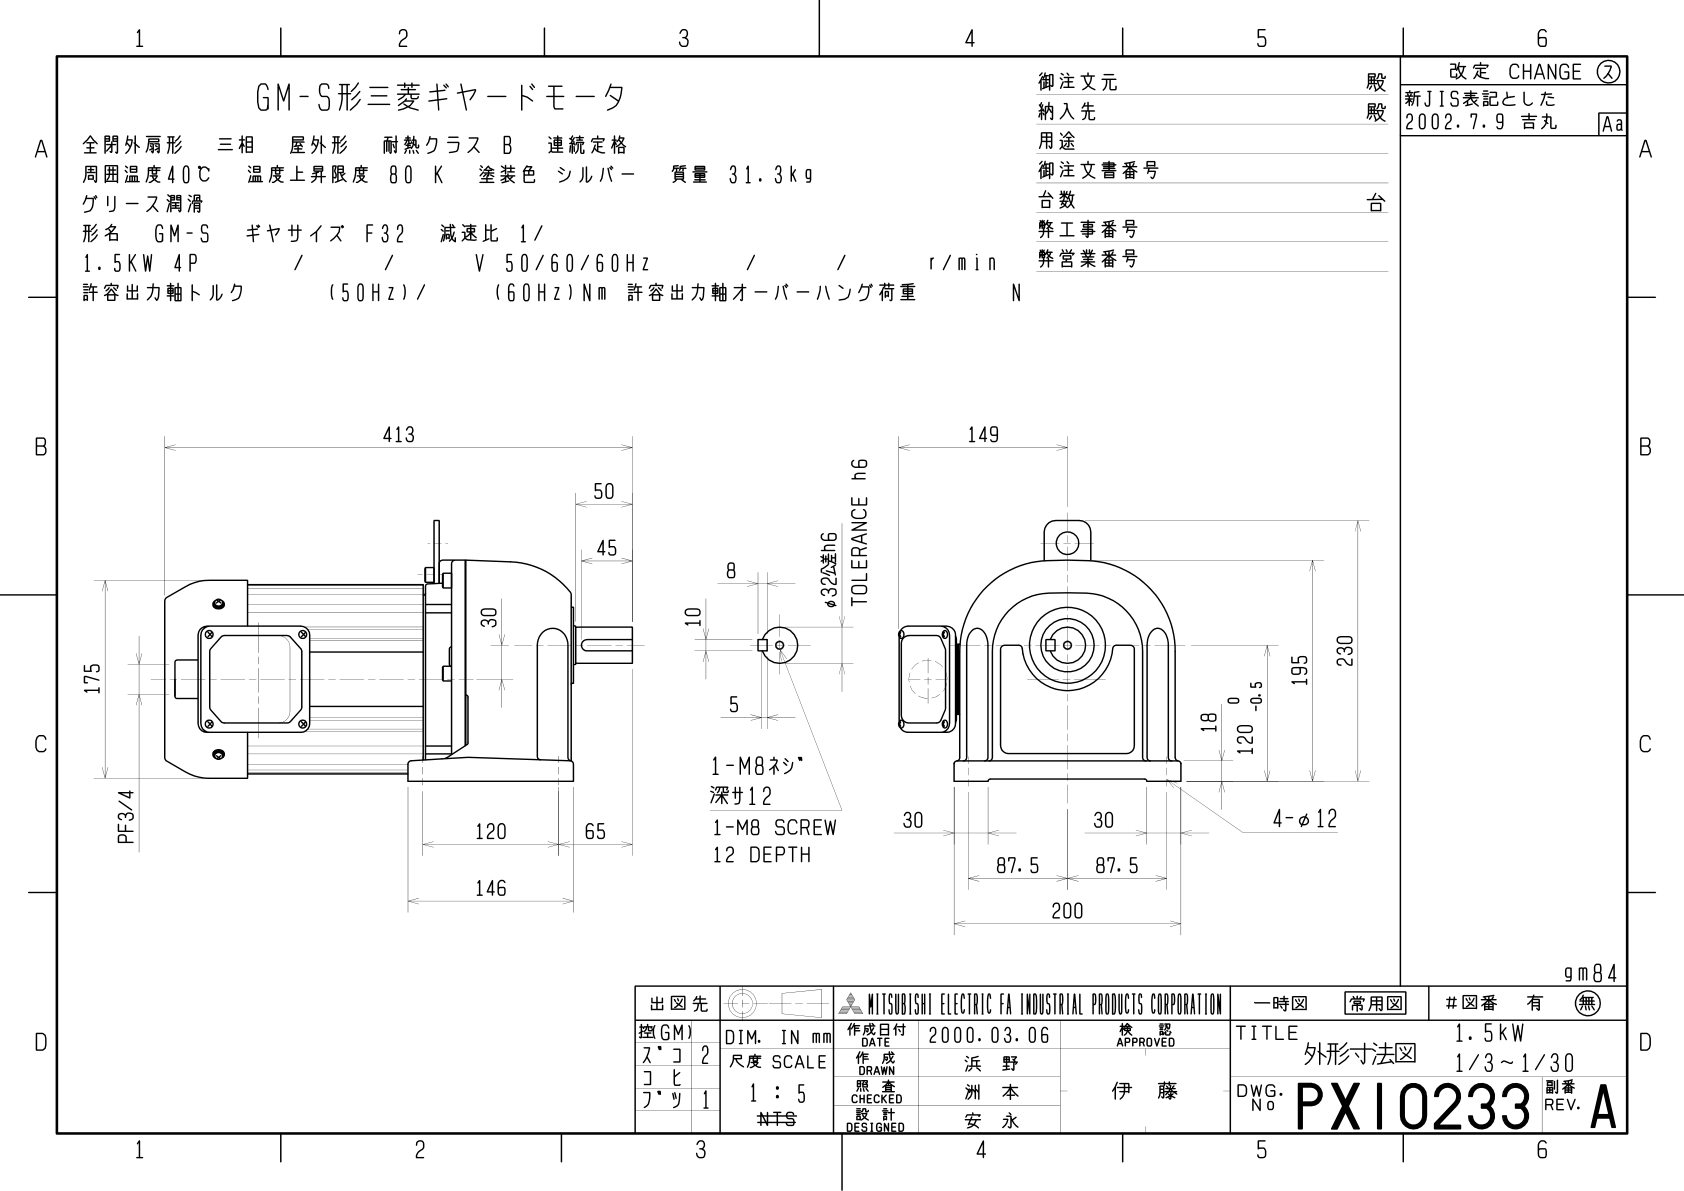GM_S_屋外＿三相_脚: (77, 369, 1386, 963)
